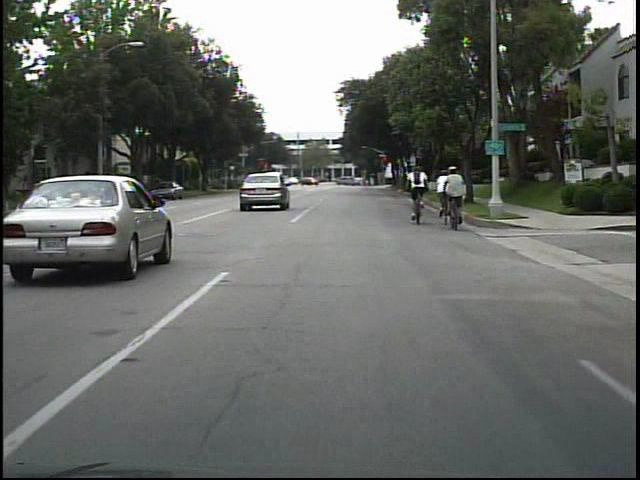person: (446, 163, 472, 230), (406, 162, 432, 224), (435, 167, 455, 224)
